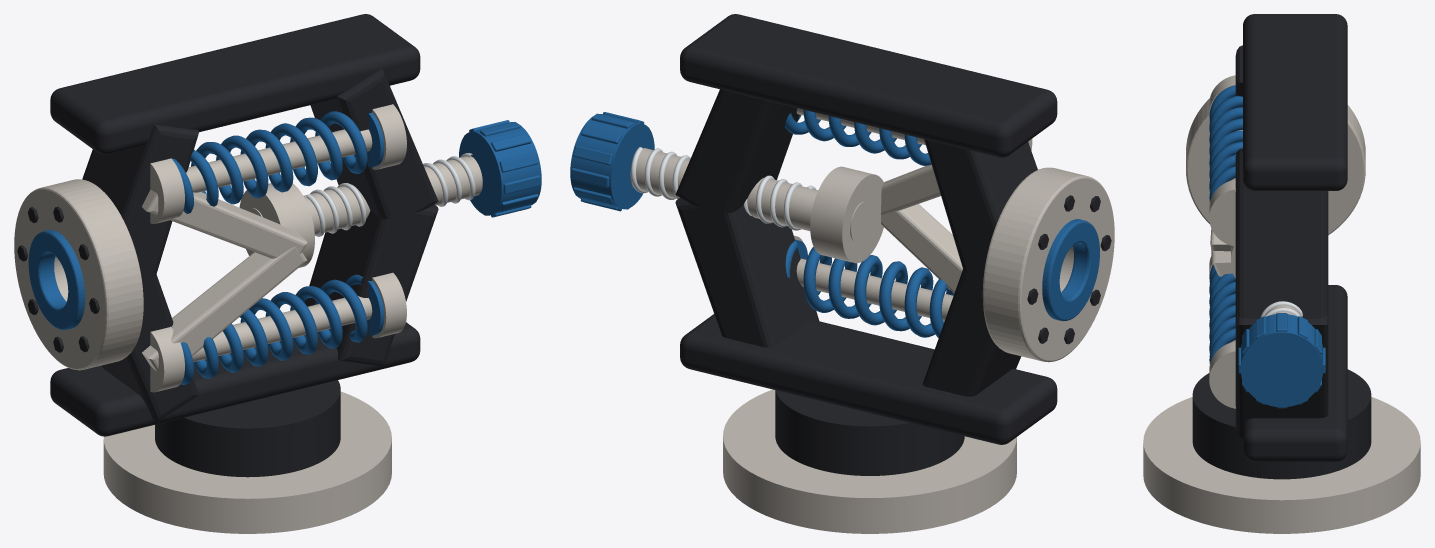
The model's file is anatomy-53.glb.
3 views of the same model, side by side, from view 1: azimuth 30°, elevation 25°; view 2: azimuth 150°, elevation 25°; view 3: azimuth 270°, elevation 25° (orthographic). The views are drawn at different scales.
Parts seen in each view (by area): view 1: frame, base, hub, springs, lever, spring-collars, knob, guides, screw; view 2: frame, base, hub, lever, springs, screw, knob, guides; view 3: frame, base, knob, springs, hub, spring-collars, lever, screw.
Boxes of the visible parts, x1,y1,x2,y2 form: frame: (50,14,438,436); base: (103,380,391,533); hub: (14,179,143,370); springs: (171,111,367,384); lever: (142,183,314,370); spring-collars: (150,104,406,392); knob: (459,120,541,217); guides: (186,129,372,361); screw: (248,153,482,236); frame: (675,14,1057,444); base: (723,389,1016,533); hub: (982,167,1114,362); lever: (810,164,962,293); springs: (785,110,953,337); screw: (630,147,871,242); knob: (570,112,654,211); guides: (796,108,953,321); frame: (1235,14,1347,461); base: (1143,369,1420,533); knob: (1238,313,1325,408); springs: (1209,85,1242,363); hub: (1186,98,1365,234); spring-collars: (1209,75,1235,408); lever: (1210,229,1235,278); screw: (1260,301,1302,317).
Size of the model in its own units: 1.7 by 1.38 by 0.9.
